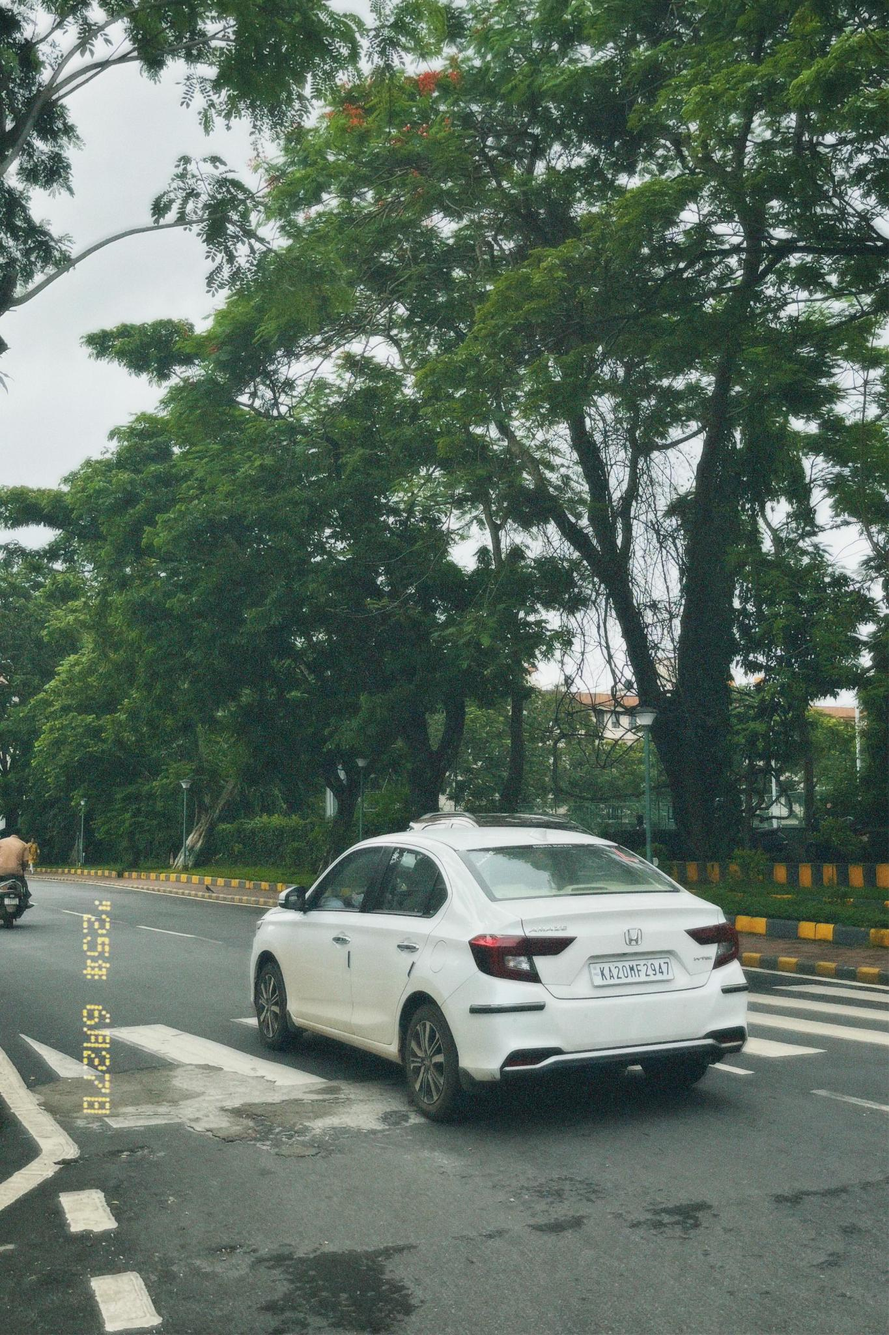car: (251, 823, 752, 1108)
